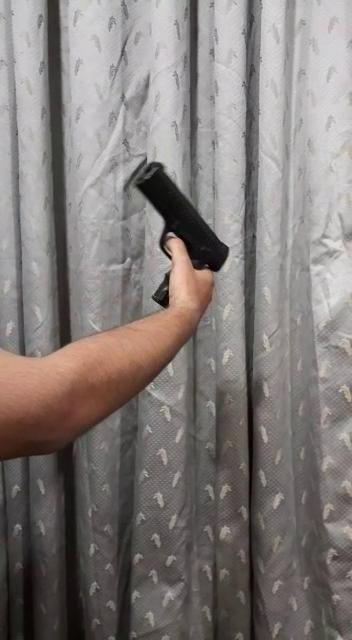weapon: (130, 157, 230, 313)
